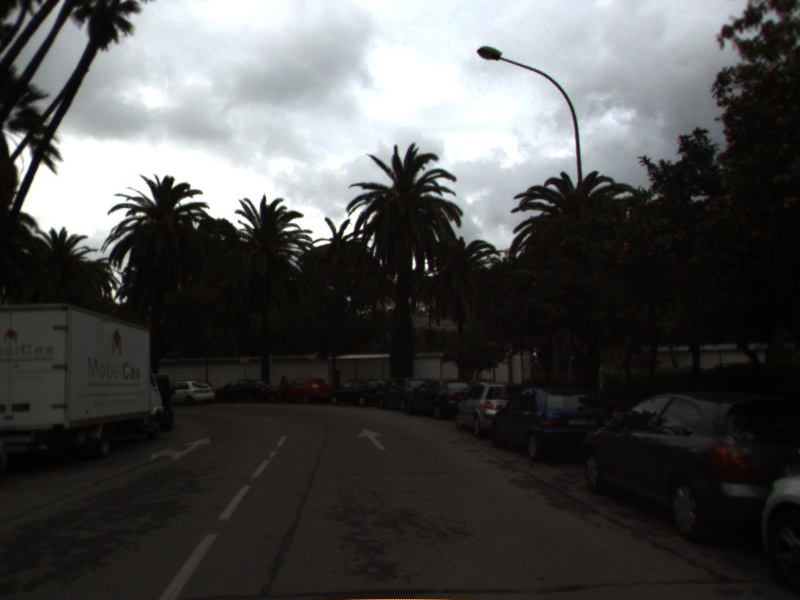STRAIGHT: (356, 426, 389, 452)
STRAIGHT_LEFT: (147, 435, 214, 464)
